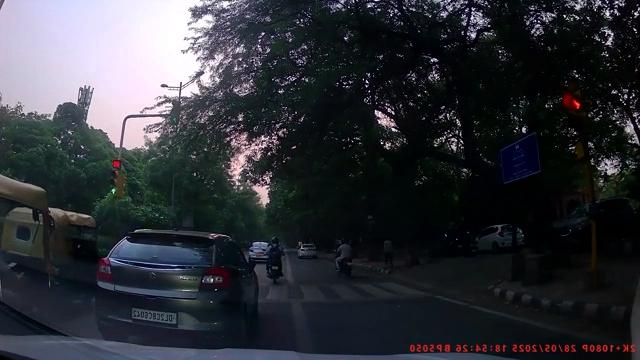motorcycle_with_helmet: (265, 235, 285, 283)
